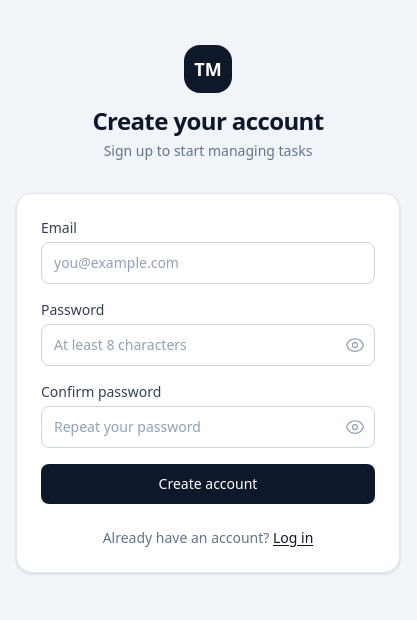
Scenario: RegisterPage › shows a server error from the API
The width and height of the screenshot is (417, 620).
Type "dup@example.com" into the field labelled "Email".
click(208, 263); type("dup@example.com")  # box [41, 242, 375, 284]
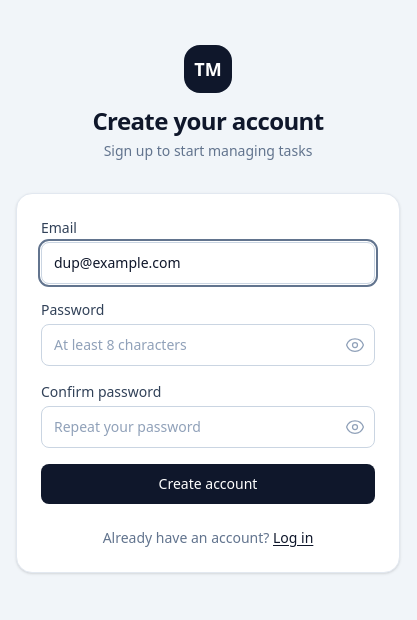
Type "password123" into the password field labelled "Password".
click(208, 345); type("password123")  # box [41, 324, 375, 366]
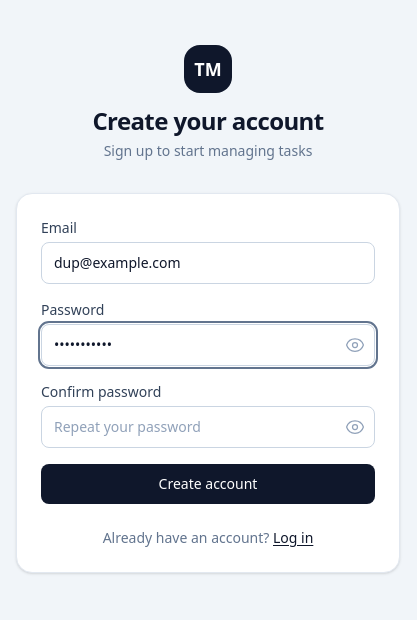
Type "password123" into the password field labelled "Confirm password".
click(208, 427); type("password123")  # box [41, 406, 375, 448]
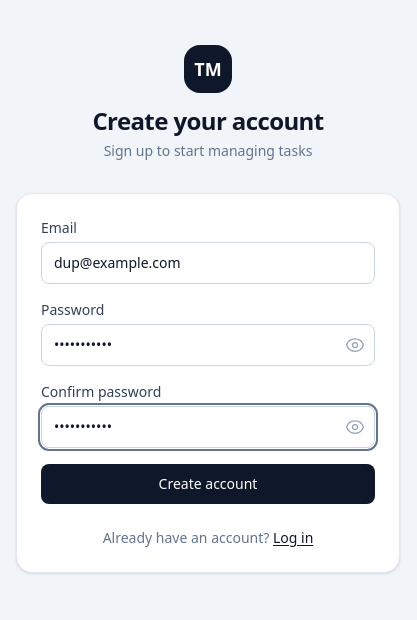
Click the button "Create account".
click(208, 484)  # box [41, 464, 375, 504]
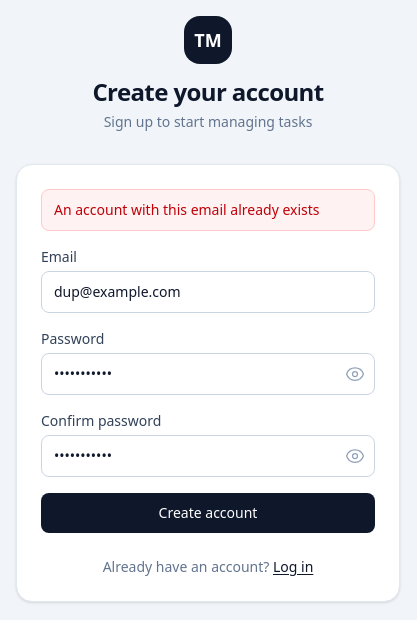
expect the text "An account with this email already exists" is shown: met, box [41, 189, 375, 231]
